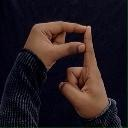hand: (57, 24, 109, 119), (23, 21, 86, 69)
